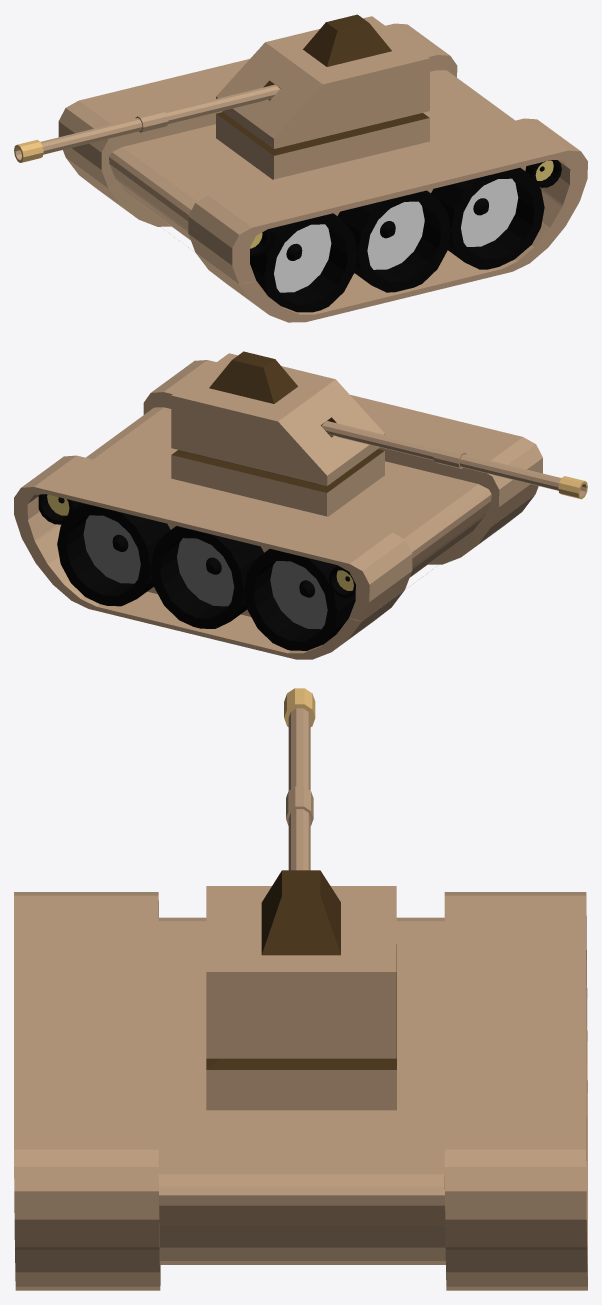
The model's file is TankPrototype.fbx.
3 renders of one model, top to bottom at view 1: azimuth 30°, elevation 25°; view 2: azimuth 150°, elevation 25°; view 3: azimuth 270°, elevation 25°, orthographic. The views are drawn at different scales.
Visible parts, largest first — view 1: TankBody, TankBody.001; view 2: TankBody, TankBody.001; view 3: TankBody, TankBody.001.
Boxes of the visible parts, x1=… form: TankBody: x1=58, y1=23, x2=587, y2=322; TankBody.001: x1=14, y1=14, x2=429, y2=162; TankBody: x1=14, y1=360, x2=542, y2=659; TankBody.001: x1=171, y1=351, x2=587, y2=499; TankBody: x1=14, y1=892, x2=587, y2=1290; TankBody.001: x1=206, y1=688, x2=396, y2=1058.
Size of the model in its own units: 8.25 by 3.35 by 5.16.
